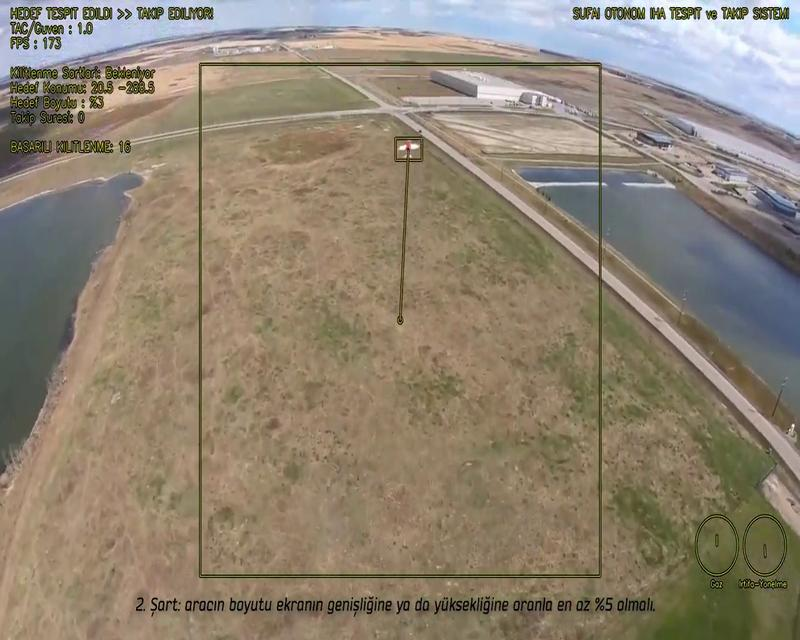UAV: (397, 140, 420, 158)
